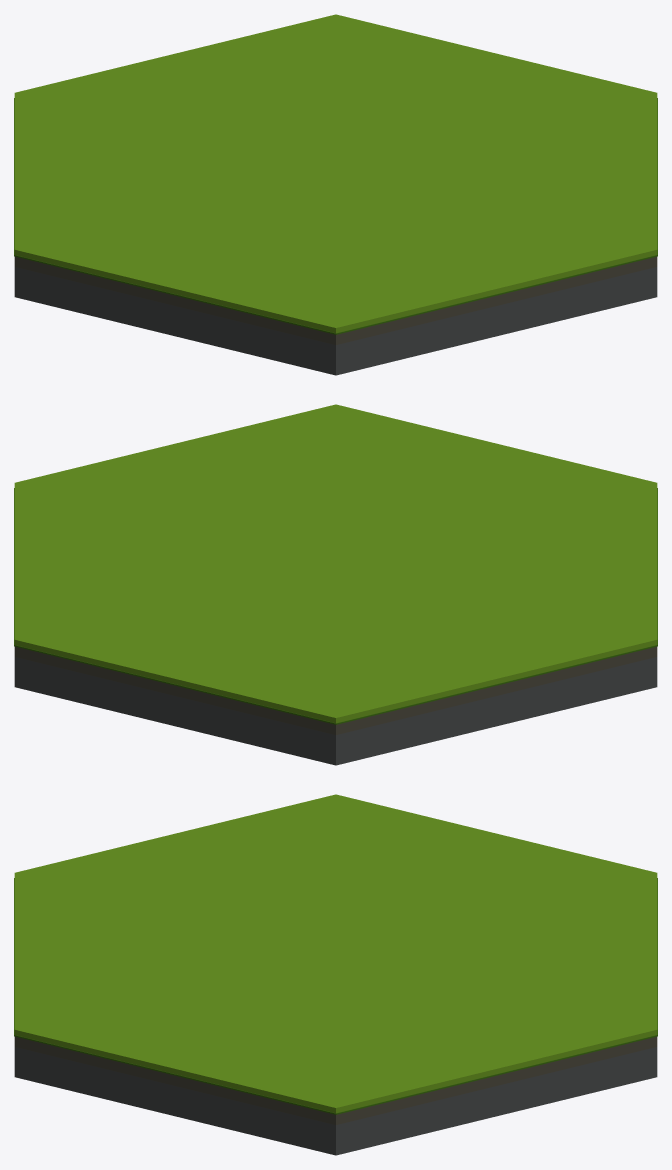
Rendered from forest_hex_meadow.glb.
The picture shows the model from 3 angles, top to bottom: view 1: azimuth 30°, elevation 25°; view 2: azimuth 150°, elevation 25°; view 3: azimuth 270°, elevation 25°; orthographic projection.
Parts seen in each view (by area): view 1: Standard hex meadow top, Standard hex stone foundation, Standard hex earth layer, Thin meadow rim shadow.003, Thin meadow rim shadow.004; view 2: Standard hex meadow top, Standard hex stone foundation, Standard hex earth layer, Thin meadow rim shadow.001, Thin meadow rim shadow.002; view 3: Standard hex meadow top, Standard hex stone foundation, Standard hex earth layer, Thin meadow rim shadow, Thin meadow rim shadow.005.
Boxes of the visible parts, box(x1,y1,x2,y2) form: Standard hex meadow top: box(14, 14, 657, 333); Standard hex stone foundation: box(14, 267, 657, 375); Standard hex earth layer: box(14, 256, 657, 344); Thin meadow rim shadow.003: box(14, 255, 335, 334); Thin meadow rim shadow.004: box(336, 255, 657, 334); Standard hex meadow top: box(14, 404, 657, 723); Standard hex stone foundation: box(14, 657, 657, 765); Standard hex earth layer: box(14, 646, 657, 734); Thin meadow rim shadow.001: box(14, 645, 335, 724); Thin meadow rim shadow.002: box(336, 645, 657, 724); Standard hex meadow top: box(14, 794, 657, 1113); Standard hex stone foundation: box(14, 1047, 657, 1155); Standard hex earth layer: box(14, 1036, 657, 1124); Thin meadow rim shadow: box(336, 1035, 657, 1114); Thin meadow rim shadow.005: box(14, 1035, 335, 1114).
Bounding box in the file's own units: 5.11 × 0.36 × 4.42.
